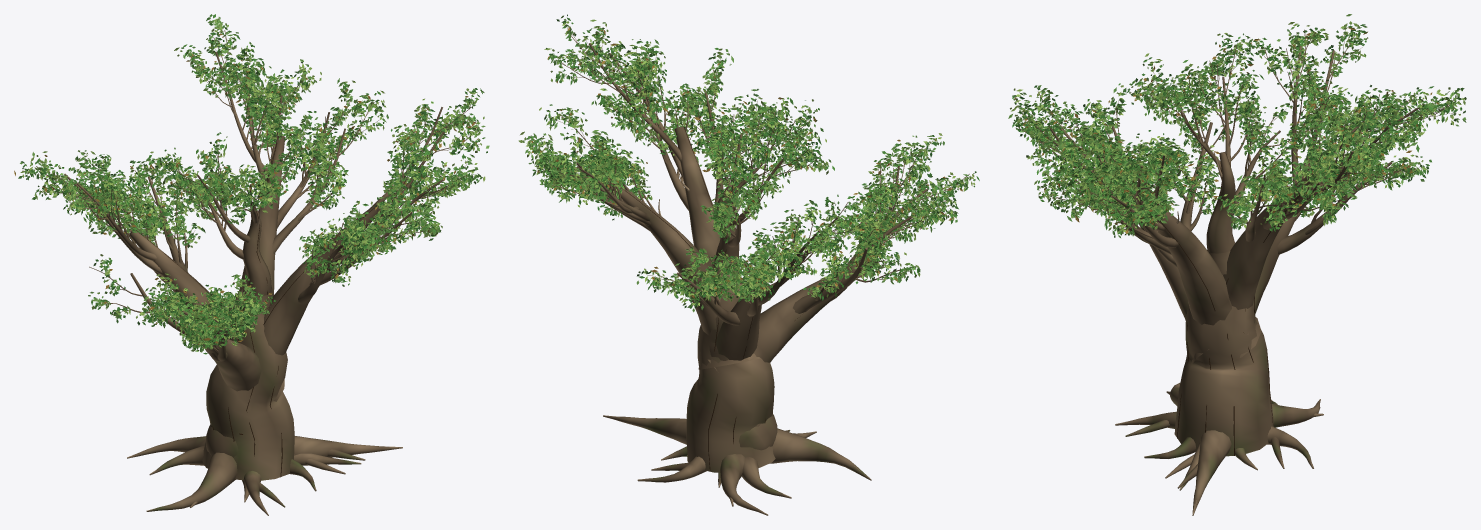
The model's file is ancient_tree_04.glb.
3 renders of one model, left to right at view 1: azimuth 30°, elevation 25°; view 2: azimuth 150°, elevation 25°; view 3: azimuth 270°, elevation 25°, orthographic. The views are drawn at different scales.
Visible parts, largest first — view 1: AncientLeaves, AncientTreeWood, FineBranches, DirectedBarkGrooves; view 2: AncientLeaves, AncientTreeWood, FineBranches; view 3: AncientLeaves, AncientTreeWood, FineBranches, DirectedBarkGrooves.
Part boxes in pixels (x1,y1,x2,y2): AncientLeaves: [14, 14, 489, 354]; AncientTreeWood: [36, 30, 472, 515]; FineBranches: [22, 32, 479, 344]; DirectedBarkGrooves: [135, 136, 375, 477]; AncientLeaves: [518, 14, 979, 312]; AncientTreeWood: [541, 34, 969, 515]; FineBranches: [530, 24, 971, 302]; AncientLeaves: [1008, 14, 1466, 237]; AncientTreeWood: [1018, 29, 1449, 515]; FineBranches: [1016, 30, 1457, 231]; DirectedBarkGrooves: [1143, 152, 1310, 455].
Bounding box in the file's own units: 23.2 × 21.1 × 22.18.
